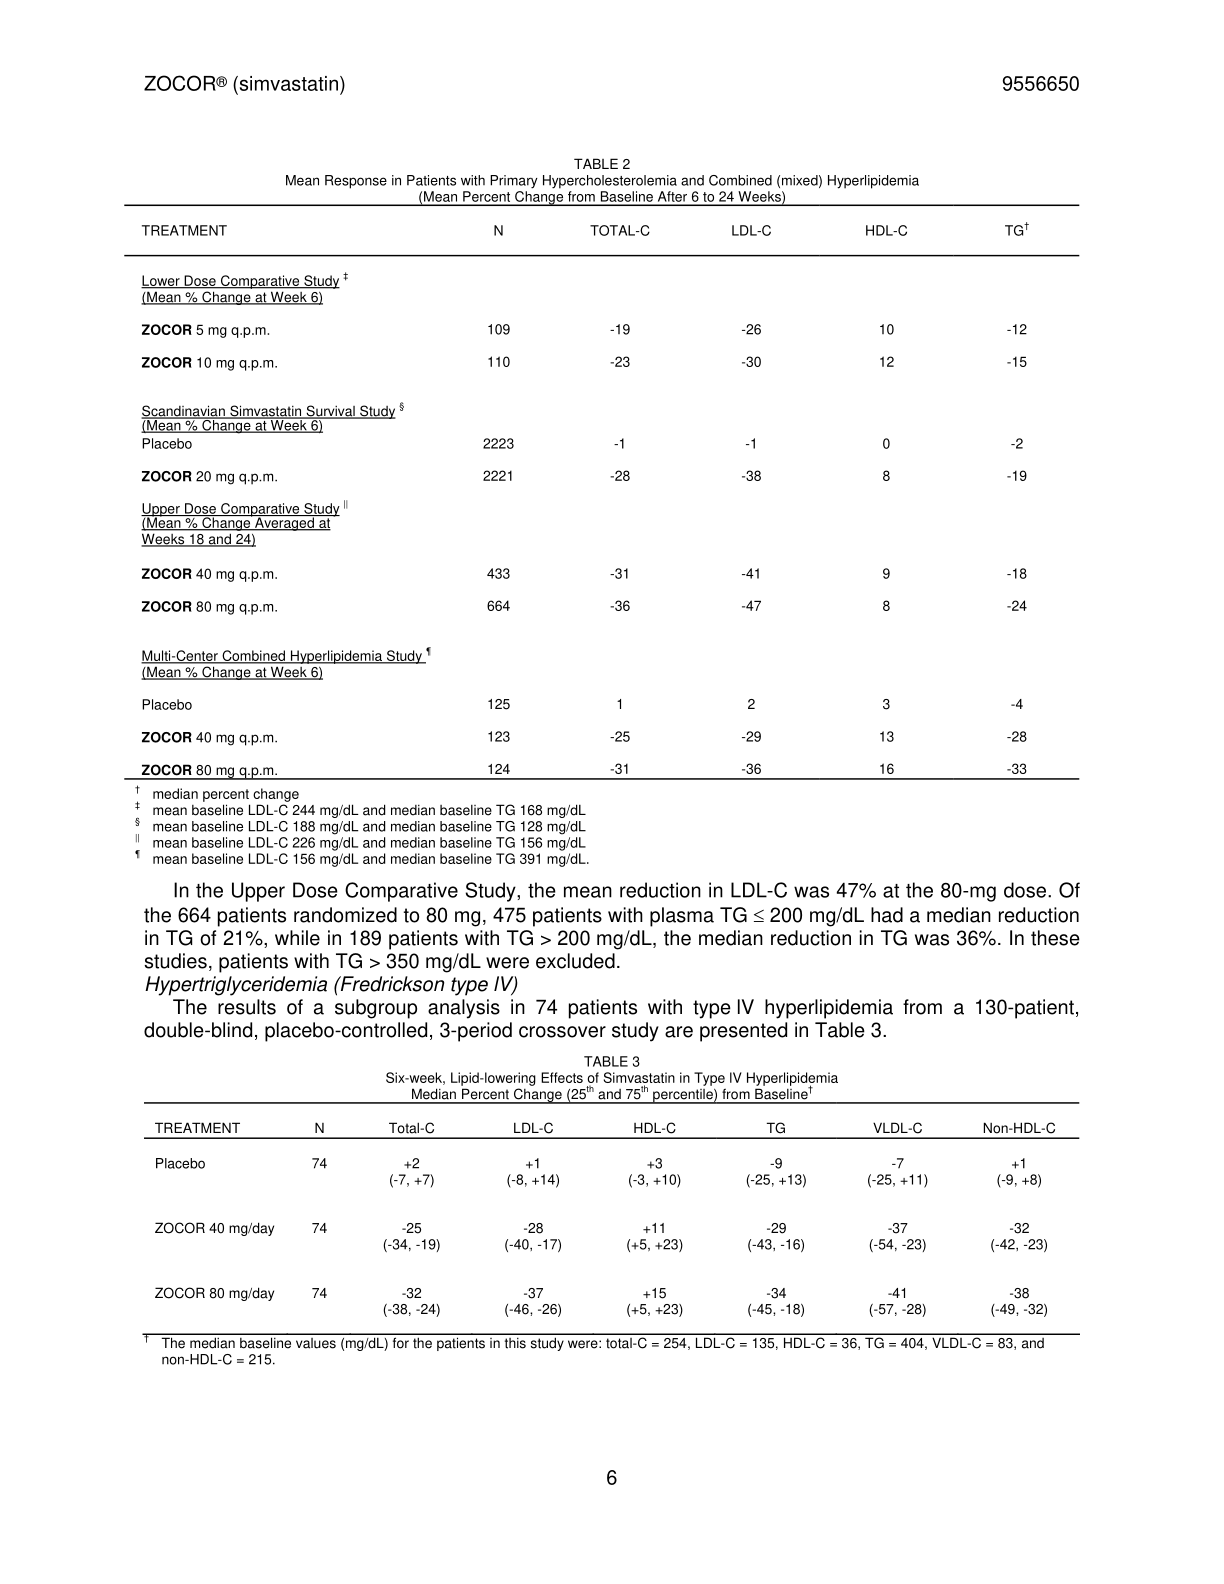partial_lined: (123, 203, 1085, 783), (141, 1101, 1083, 1336)
